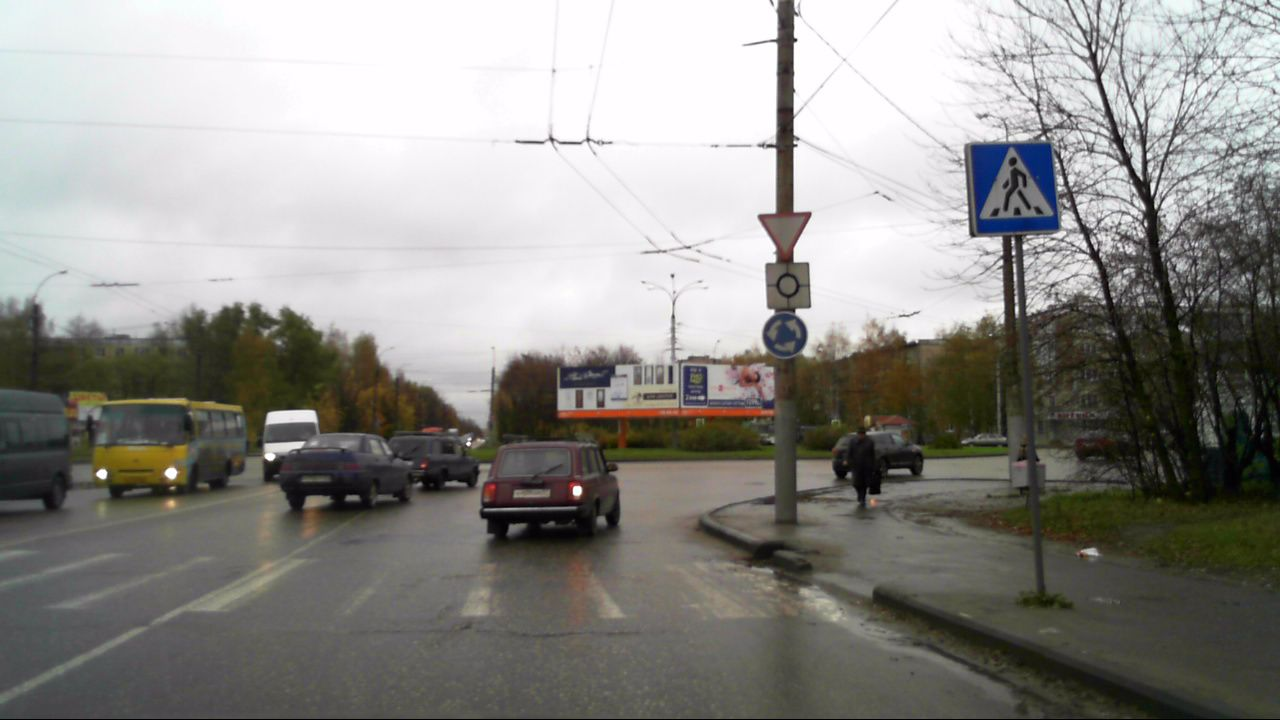Round-About: (760, 311, 808, 361)
